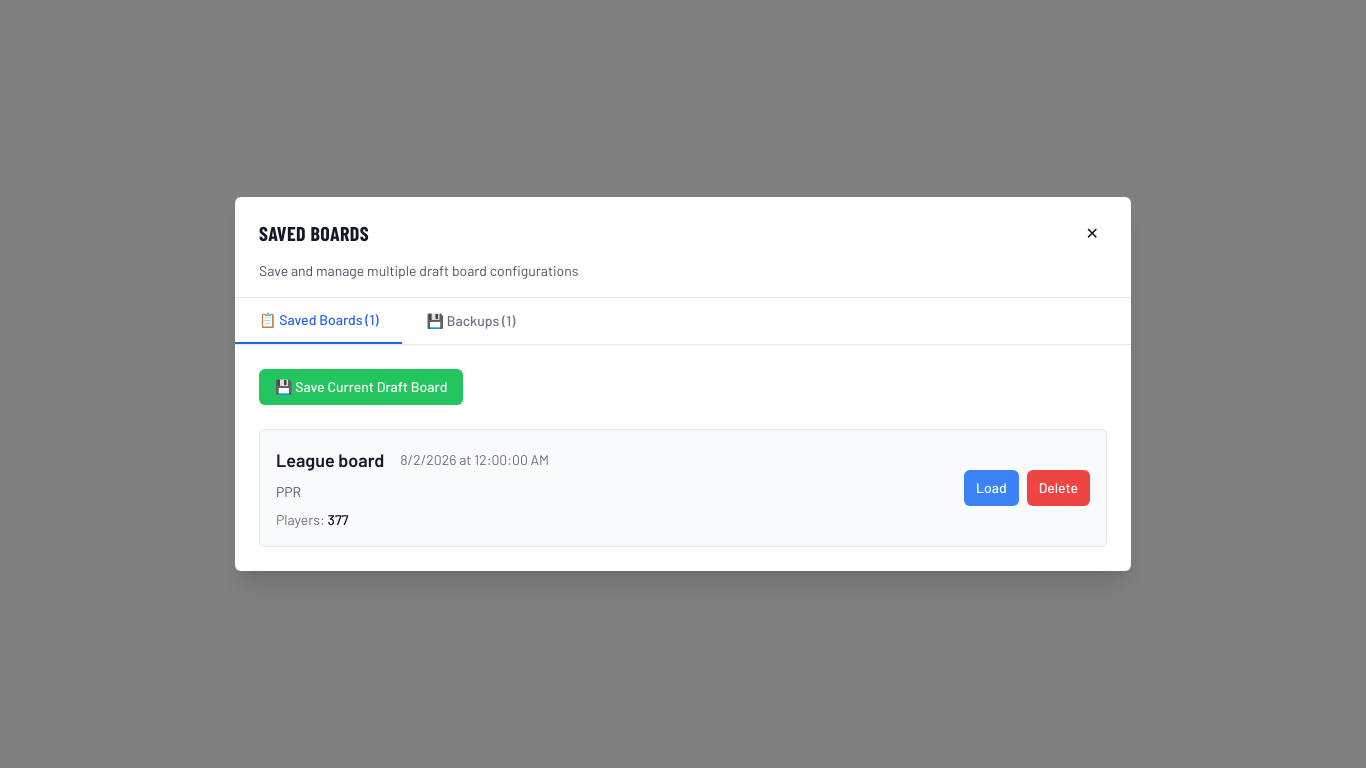
Test case: BackupManager › shows saved boards and backups under the correct tabs
Expected: the text "League board" is shown, [276,446,384,474]
Expected: the text "Automatic safety copy" is not shown
Click the button "💾 Backups (1)" at (471, 321), box [402,298,539,344]
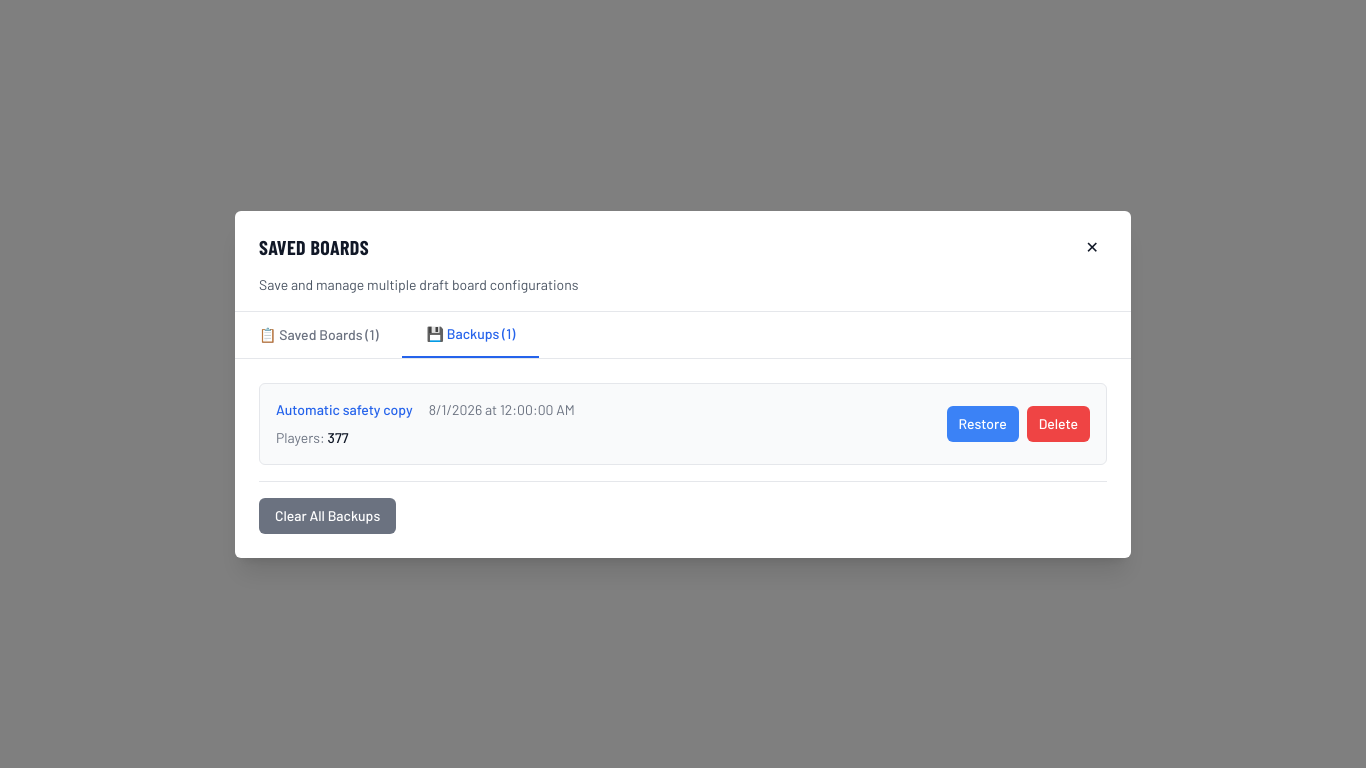
Now the text "Automatic safety copy" is shown, box [276,400,413,420]
Now the text "League board" is gone
